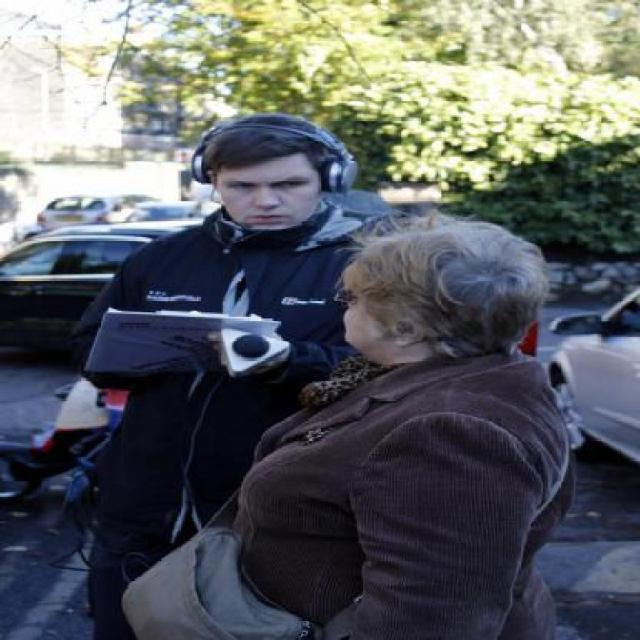earphone: (187, 115, 373, 198)
